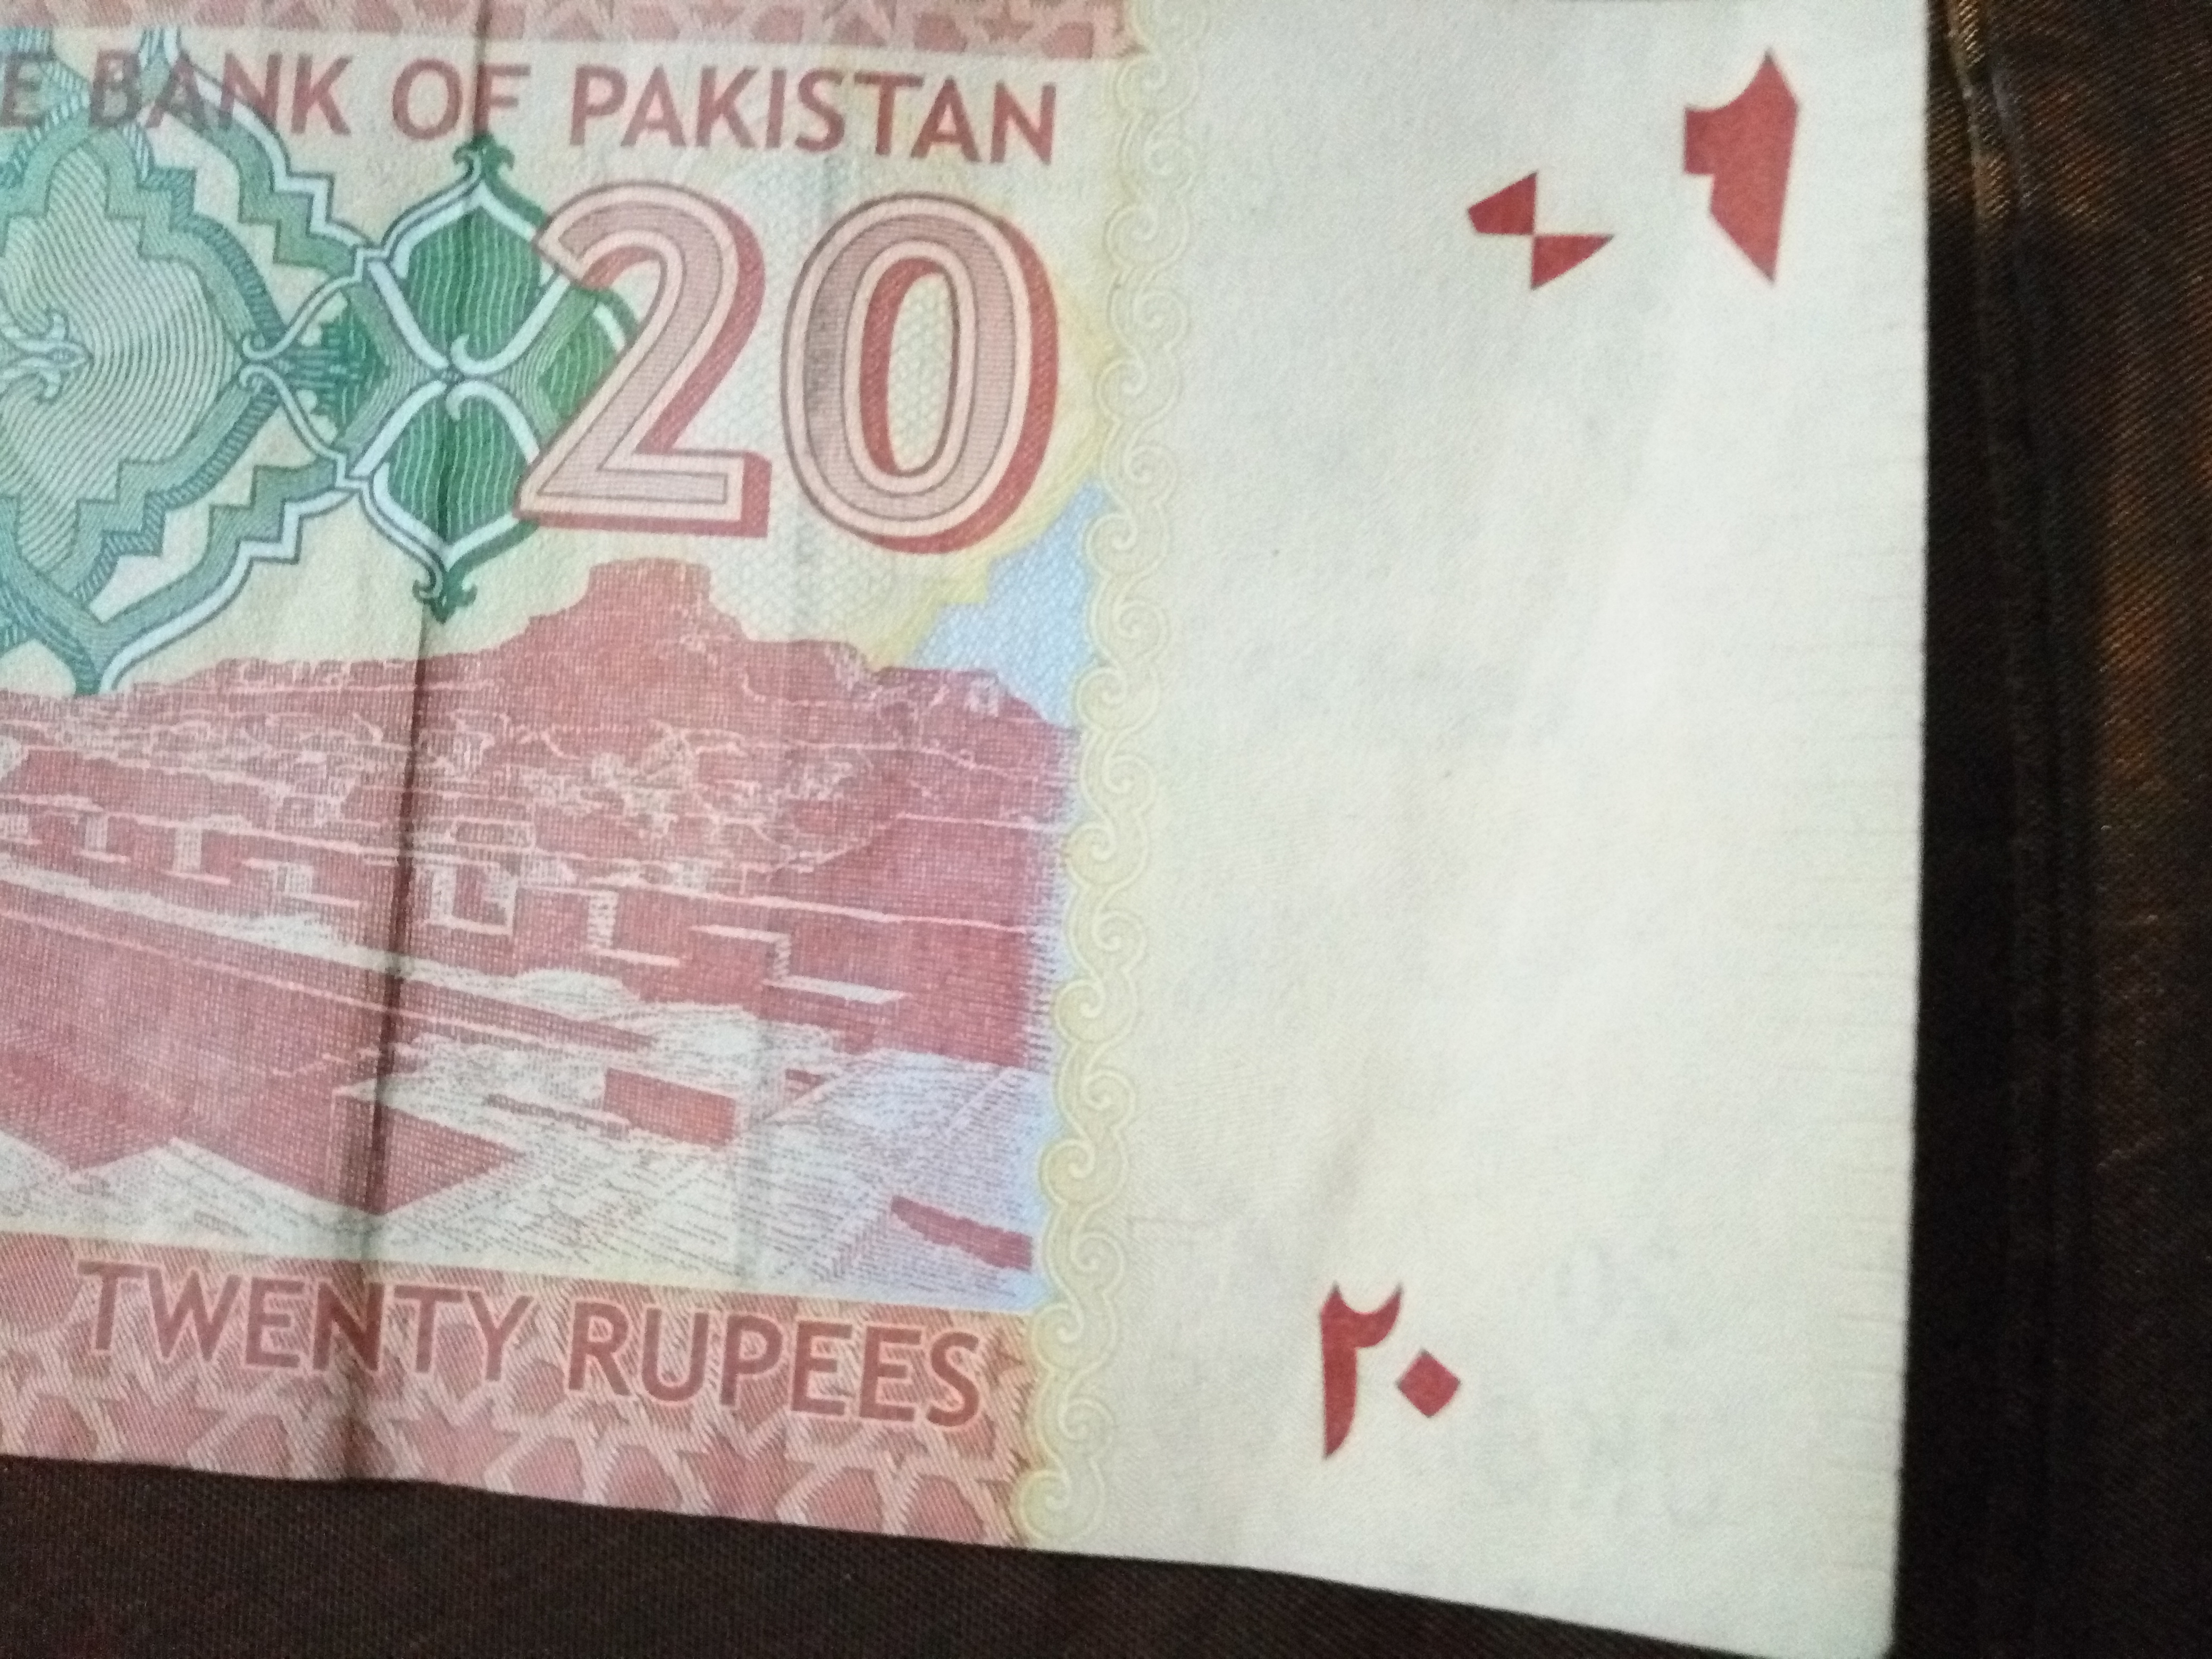20 rupee: (30, 17, 1959, 1652), (514, 155, 1050, 695), (1202, 1157, 1597, 1567)
